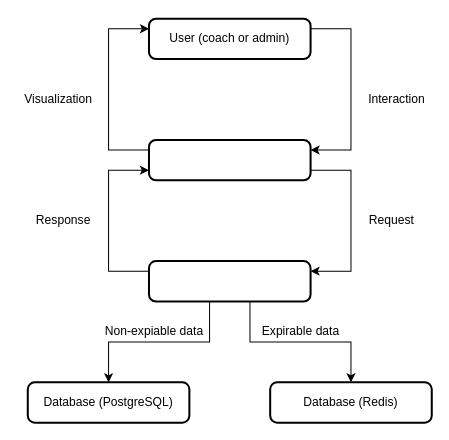
This 449x440 diagram has some shape labels left out. The centre of each missing label's shape, as x and y in pixels:
"API" belongs at pixel 229 281.
"Website (frontend)" belongs at pixel 229 159.
